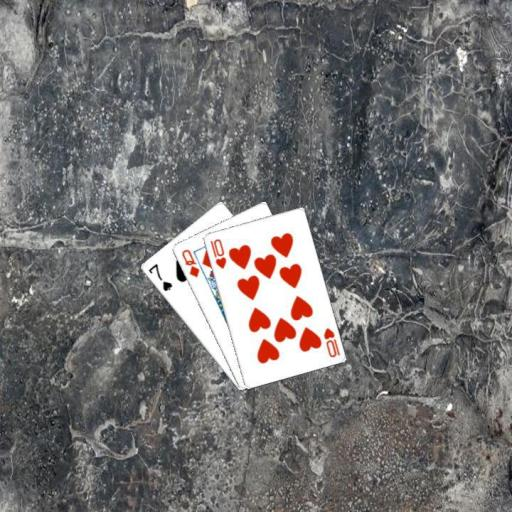10H: (320, 325, 341, 359), (207, 236, 227, 271)
7S: (145, 260, 174, 293)
QD: (179, 246, 201, 279)
